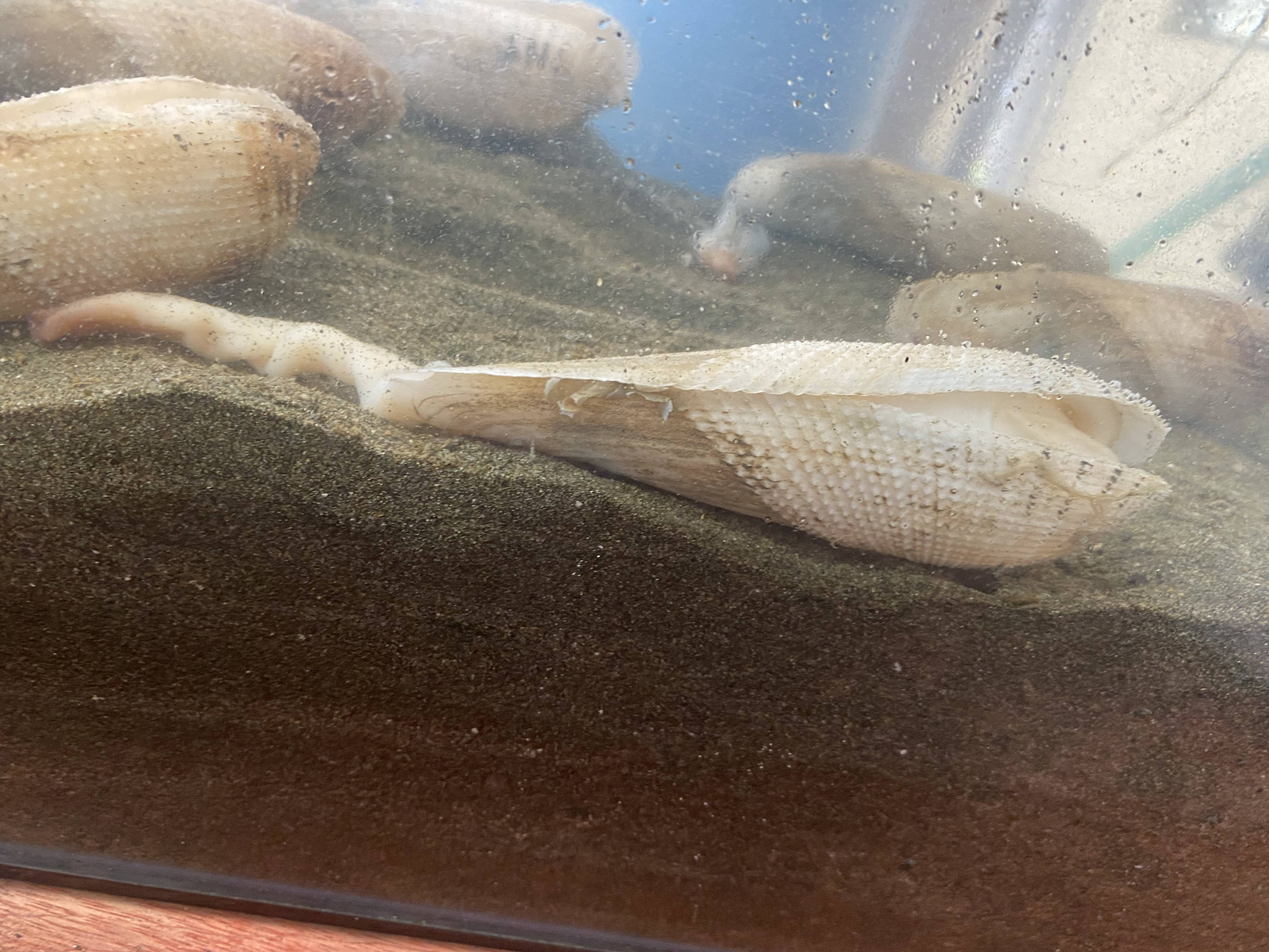At risk: (31, 293, 1167, 566), (0, 80, 318, 319), (887, 265, 1269, 426), (0, 0, 404, 149), (696, 153, 1108, 279), (293, 0, 638, 135)
